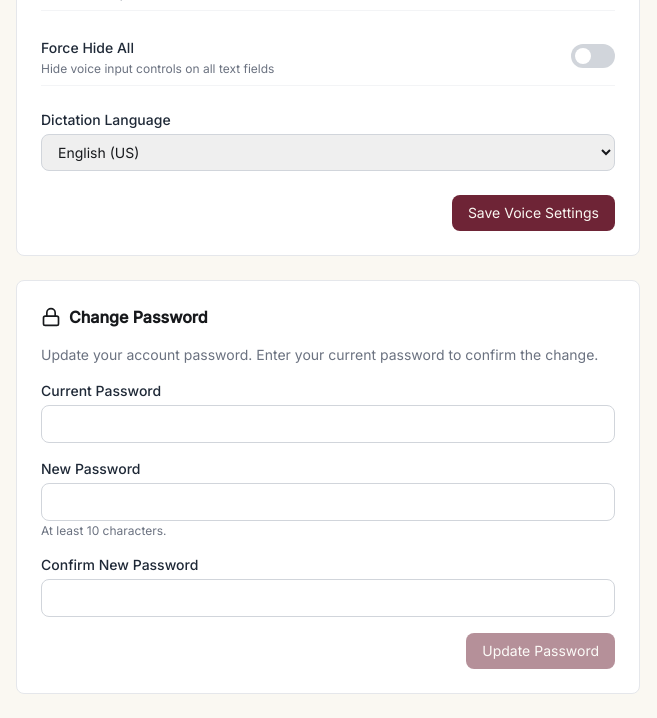
Test: SettingsPage — FOLD-AUTH-CHANGEPW change-password form › blocks submit and shows an error when the confirmation does not match
(page scrolled)
Type "oldpassword1" into the password field labelled "Current Password".
click(328, 424); type("oldpassword1")  # box [41, 405, 615, 443]
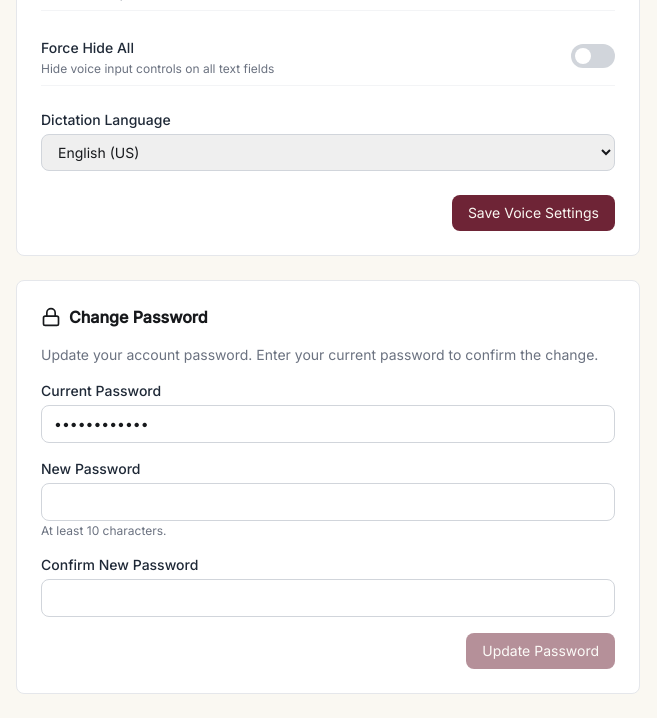
Type "brandnewpass1" into the password field labelled "New Password".
click(328, 502); type("brandnewpass1")  # box [41, 483, 615, 521]
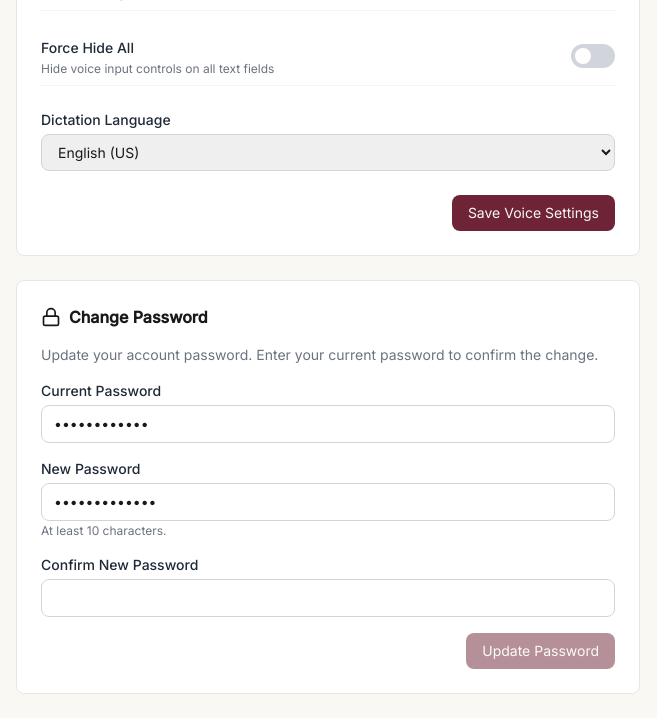
Type "different12345" into the password field labelled "Confirm New Password".
click(328, 598); type("different12345")  # box [41, 579, 615, 617]
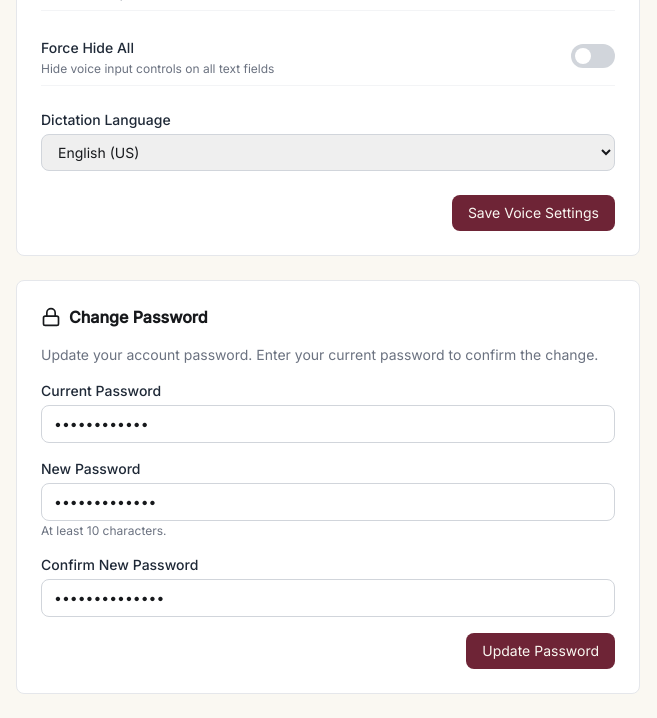
Click the button "Update Password".
click(541, 651)  # box [466, 633, 615, 669]
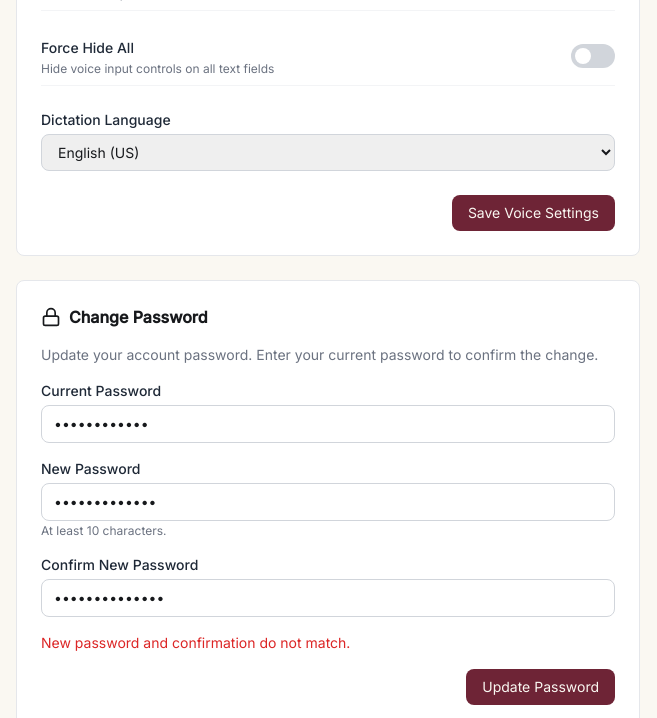
Expected: the text "New password and confirmation do not match." is shown, [41, 634, 350, 651]
